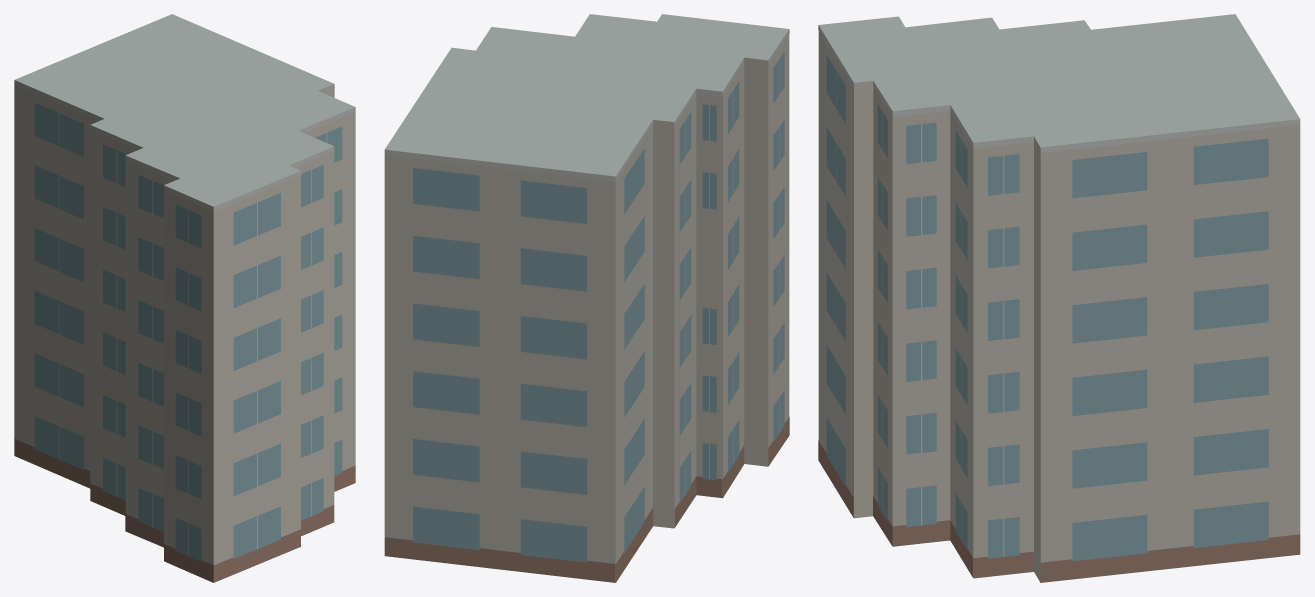
The model's file is survey-upis-32759564.glb.
3 renders of one model, left to right at view 1: azimuth 30°, elevation 25°; view 2: azimuth 150°, elevation 25°; view 3: azimuth 270°, elevation 25°, orthographic. The views are drawn at different scales.
Parts seen in each view (by area): view 1: survey-upis-32759564.tmp; view 2: survey-upis-32759564.tmp; view 3: survey-upis-32759564.tmp.
Part boxes in pixels (left/top/right/bottom): survey-upis-32759564.tmp: left=14, top=14, right=355, bottom=582; survey-upis-32759564.tmp: left=384, top=14, right=789, bottom=582; survey-upis-32759564.tmp: left=818, top=14, right=1300, bottom=582.
Bounding box in the file's own units: 12.3 × 18.7 × 18.76.
